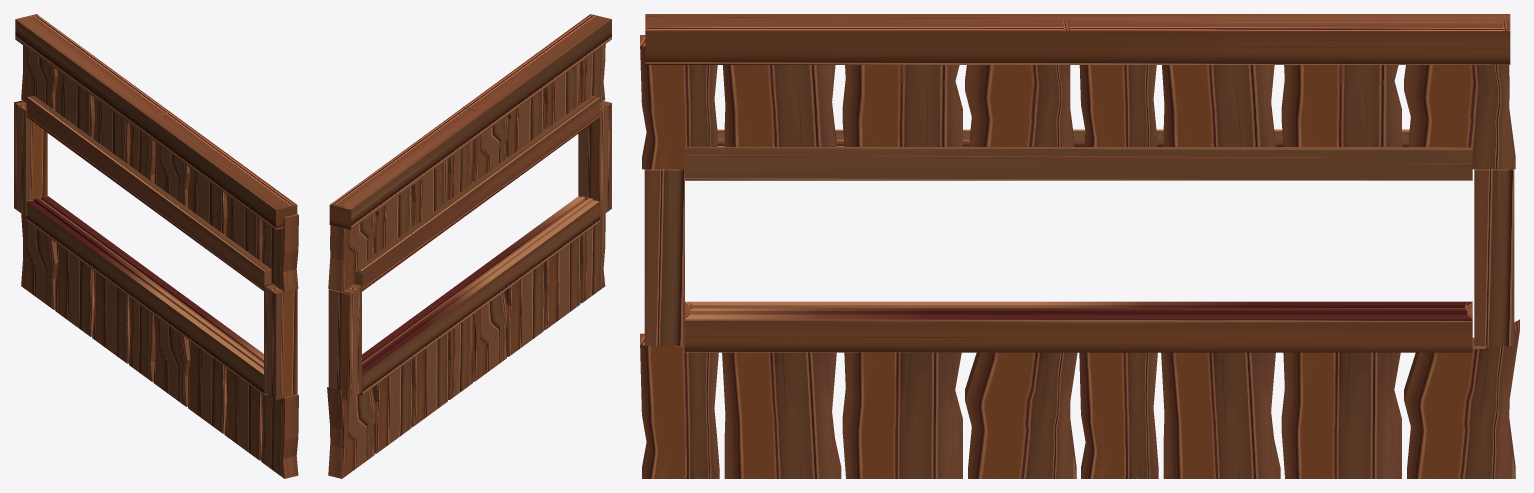
File: MSH_Piso1_VentanaPrincipal2.FBX
3 renders of one model, left to right at view 1: azimuth 30°, elevation 25°; view 2: azimuth 150°, elevation 25°; view 3: azimuth 270°, elevation 25°, orthographic. The views are drawn at different scales.
Visible parts, largest first — view 1: MSH_Piso1_VentanaPrincipal2; view 2: MSH_Piso1_VentanaPrincipal2; view 3: MSH_Piso1_VentanaPrincipal2.
Part boxes in pixels (x1=…): MSH_Piso1_VentanaPrincipal2: x1=14, y1=14, x2=298, y2=478; MSH_Piso1_VentanaPrincipal2: x1=327, y1=14, x2=611, y2=478; MSH_Piso1_VentanaPrincipal2: x1=640, y1=14, x2=1519, y2=478.
Size of the model in its own units: 12.41 by 149 by 266.
Materials: 1 (1 with a texture image).
